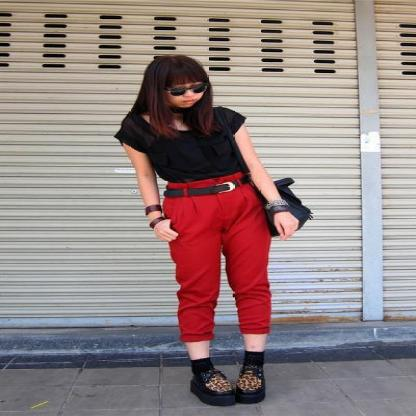pants: (163, 191, 281, 342)
shirt: (114, 108, 249, 182)
shoe: (190, 351, 264, 406)
sunglass: (174, 71, 236, 91)
